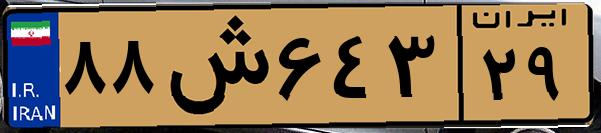2: (475, 38, 525, 113)
3: (385, 28, 445, 110)
4: (330, 28, 385, 110)
6: (270, 28, 330, 110)
8: (57, 26, 110, 100), (110, 28, 158, 98)
9: (525, 38, 570, 115)
ش: (158, 12, 270, 120)
